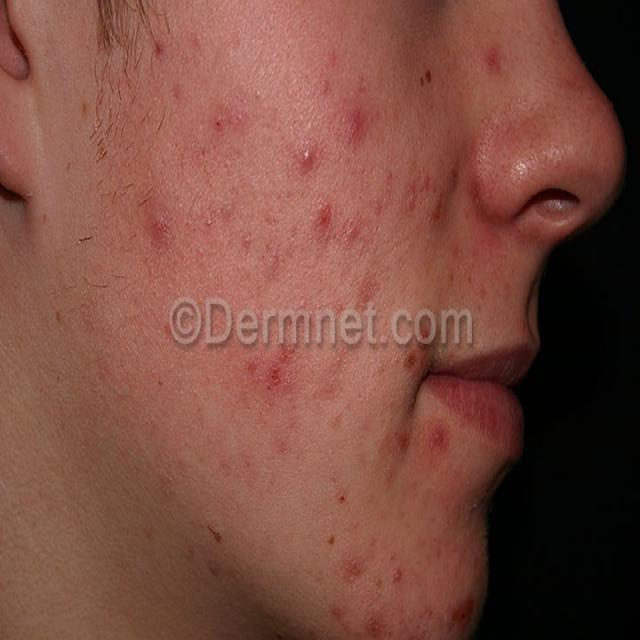Acne: (444, 596, 476, 640), (206, 102, 247, 136), (145, 206, 175, 252), (340, 104, 368, 146), (293, 140, 321, 174), (314, 197, 335, 241), (480, 43, 503, 81), (342, 554, 368, 583), (429, 184, 446, 227), (392, 424, 411, 461), (340, 215, 362, 245), (428, 421, 449, 452), (363, 611, 385, 640), (401, 179, 419, 214), (264, 360, 285, 390), (276, 342, 300, 365), (202, 210, 218, 233), (389, 564, 406, 585)
